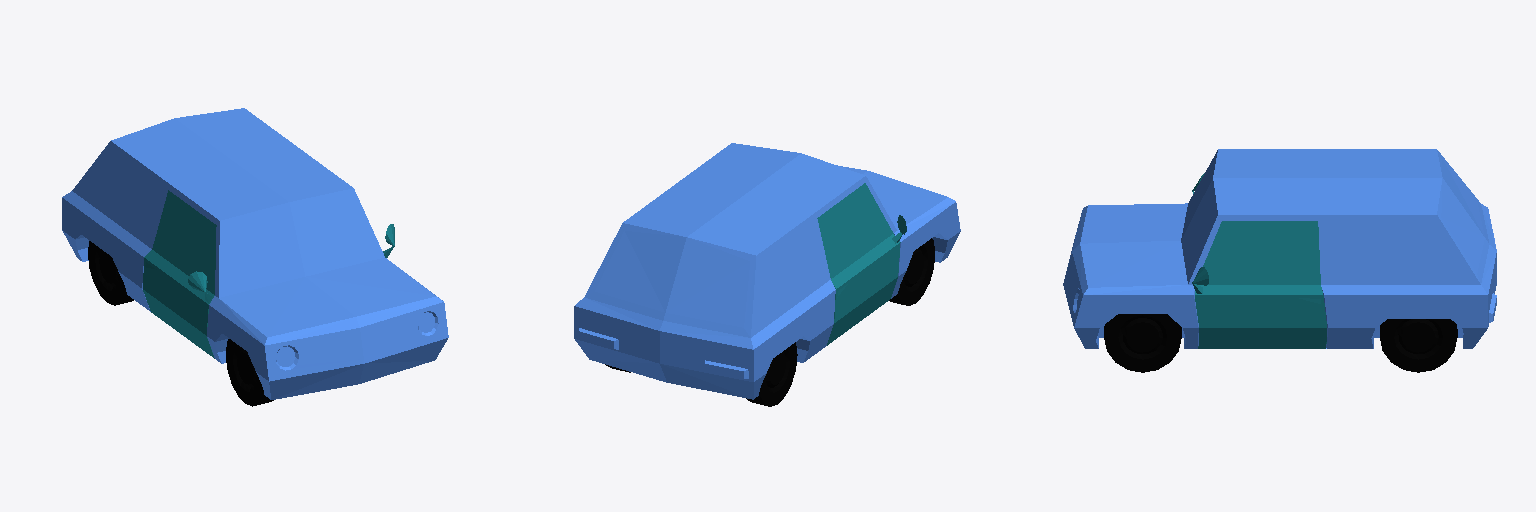
Rendered from carro.obj.
3 renders of one model, left to right at view 1: azimuth 30°, elevation 25°; view 2: azimuth 150°, elevation 25°; view 3: azimuth 270°, elevation 25°, orthographic.
Parts seen in each view (by area): view 1: Car_Hatch_C_Body, Car_Hatch_C_DoorR_Car_Hatch_C_DoorR_002, Car_Hatch_C_wheelFR_Car_Hatch_C_wheelFR_001, Car_Hatch_C_wheelRR_Car_Hatch_C_wheelRR_002; view 2: Car_Hatch_C_Body, Car_Hatch_C_DoorR_Car_Hatch_C_DoorR_002, Car_Hatch_C_wheelFR_Car_Hatch_C_wheelFR_001, Car_Hatch_C_wheelRR_Car_Hatch_C_wheelRR_002; view 3: Car_Hatch_C_Body, Car_Hatch_C_DoorL, Car_Hatch_C_wheelFL_Car_Hatch_C_wheelFL_001, Car_Hatch_C_wheelRL.
Boxes of the visible parts, <box> form: Car_Hatch_C_Body: <box>62,108,448,399</box>; Car_Hatch_C_DoorR_Car_Hatch_C_DoorR_002: <box>143,190,216,358</box>; Car_Hatch_C_wheelFR_Car_Hatch_C_wheelFR_001: <box>226,339,273,406</box>; Car_Hatch_C_wheelRR_Car_Hatch_C_wheelRR_002: <box>88,241,133,305</box>; Car_Hatch_C_Body: <box>574,143,960,399</box>; Car_Hatch_C_DoorR_Car_Hatch_C_DoorR_002: <box>817,183,906,345</box>; Car_Hatch_C_wheelFR_Car_Hatch_C_wheelFR_001: <box>889,238,934,305</box>; Car_Hatch_C_wheelRR_Car_Hatch_C_wheelRR_002: <box>746,342,797,406</box>; Car_Hatch_C_Body: <box>1063,149,1496,348</box>; Car_Hatch_C_DoorL: <box>1192,221,1326,348</box>; Car_Hatch_C_wheelFL_Car_Hatch_C_wheelFL_001: <box>1104,314,1181,372</box>; Car_Hatch_C_wheelRL: <box>1380,319,1457,372</box>.
Bounding box in the file's own units: 4.88 × 3.53 × 8.86.